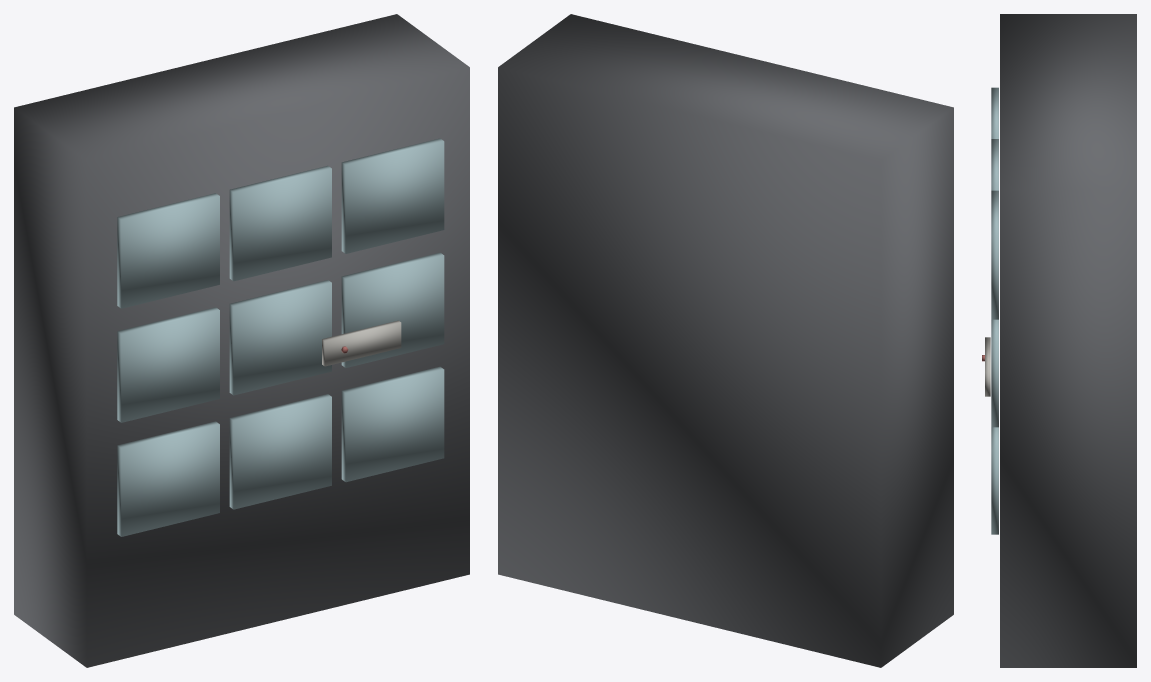
The model's file is security_monitor_bank__compact.glb.
3 renders of one model, left to right at view 1: azimuth 30°, elevation 25°; view 2: azimuth 150°, elevation 25°; view 3: azimuth 270°, elevation 25°, orthographic. The views are drawn at different scales.
Parts seen in each view (by area): view 1: world; view 2: world; view 3: world.
Boxes of the visible parts, box(x1,y1,x2,y2) form: world: box(14, 14, 469, 667); world: box(498, 14, 953, 667); world: box(982, 14, 1136, 667).
Size of the model in its own units: 1.18 by 1.49 by 0.4373.
